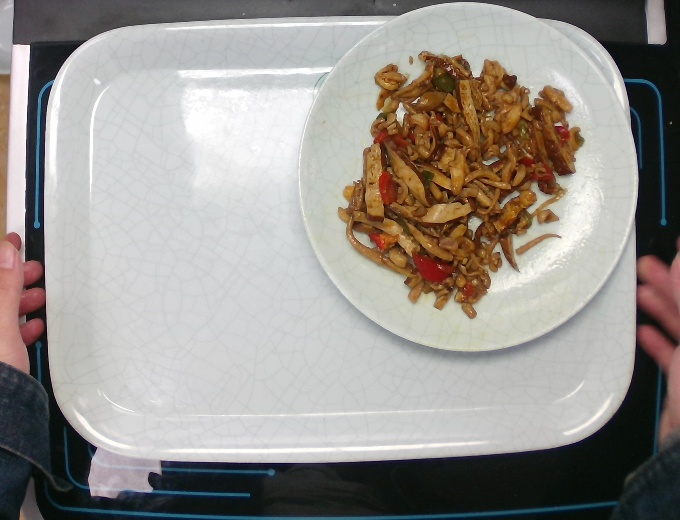JYsf-Da_Yuan_Pan: (294, 1, 640, 354)
